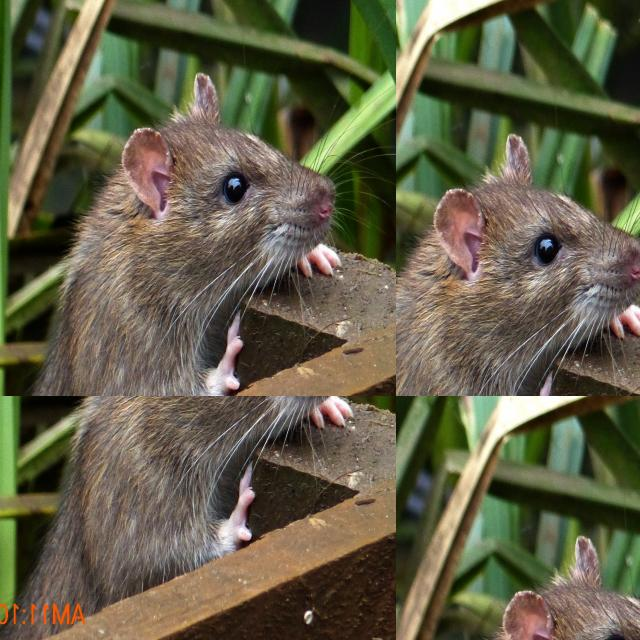rat: (0, 114, 396, 396), (396, 536, 640, 640)
